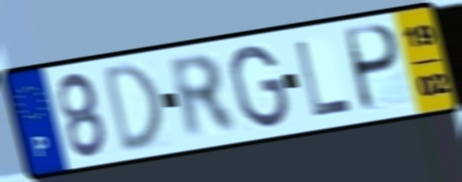8: (56, 70, 109, 162)
D: (100, 59, 166, 157)
G: (228, 42, 292, 131)
L: (292, 37, 355, 119)
P: (344, 22, 404, 116)
R: (164, 51, 243, 143)
